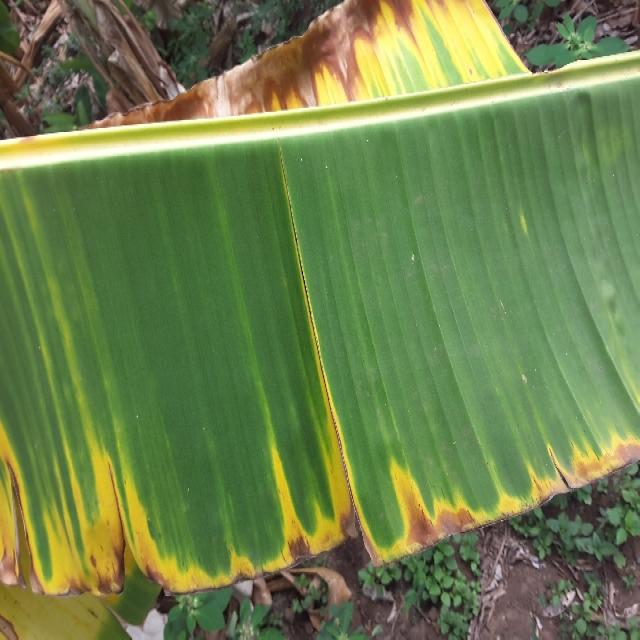Cordana: (0, 0, 640, 598), (0, 572, 204, 639)
